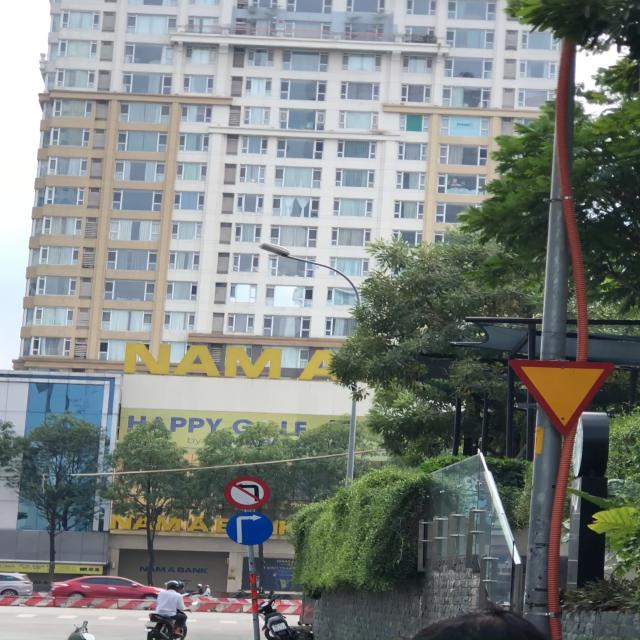Bien bao cam re trai: (222, 474, 272, 510)
Bien bao giao nhau voi duong uu tien: (502, 355, 618, 438)
Bien bao huong di phai theo: (226, 510, 277, 550)
